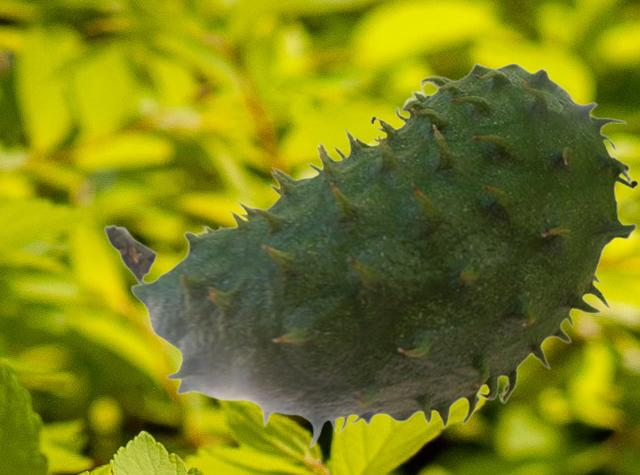guyabano: (103, 62, 638, 448)
